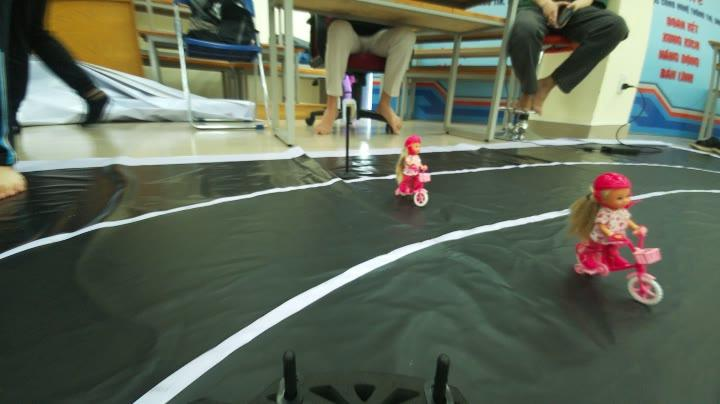pedestrian: (570, 164, 664, 313), (390, 130, 436, 215)
